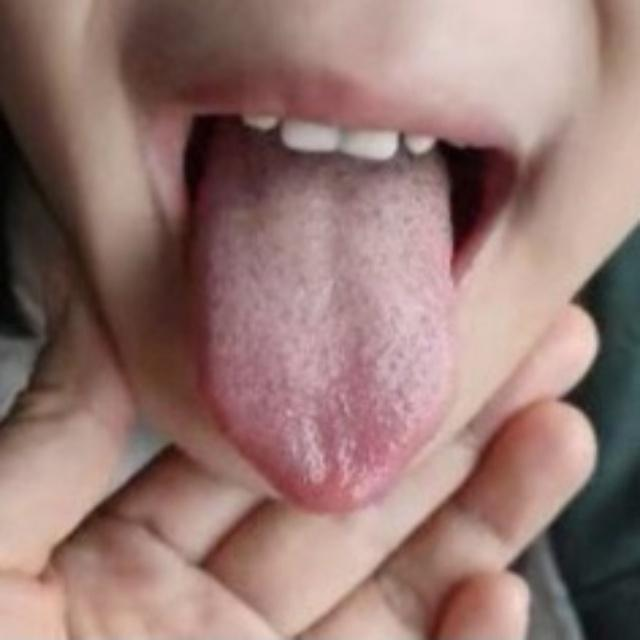baitaishe: (190, 163, 459, 515)
